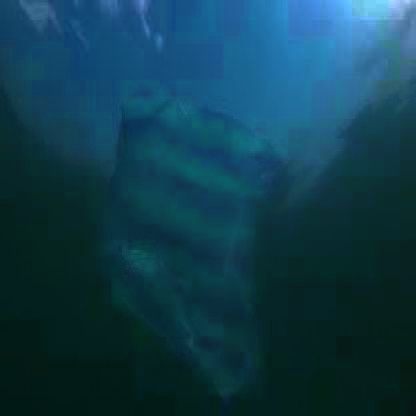pbag: (98, 92, 297, 414)
